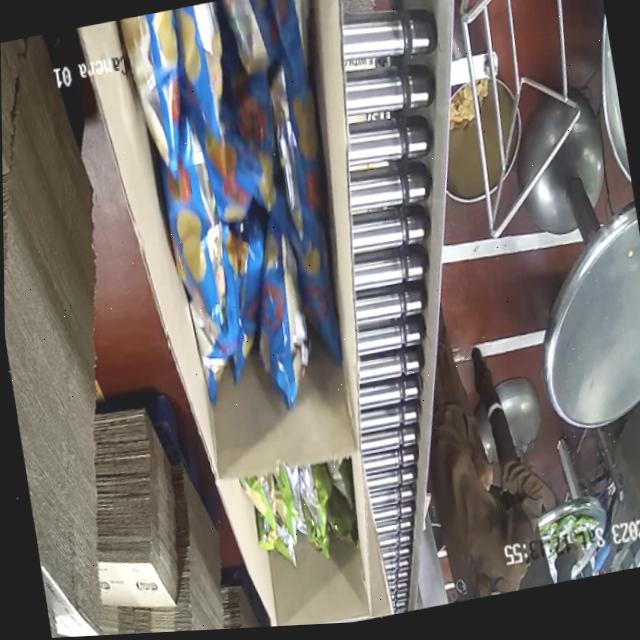PAPRIKA: (108, 0, 362, 428)
